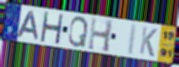A: (16, 11, 40, 41)
H: (86, 16, 114, 55), (39, 10, 65, 45)
I: (126, 23, 139, 57)
K: (138, 25, 159, 59)
Q: (67, 16, 90, 49)
